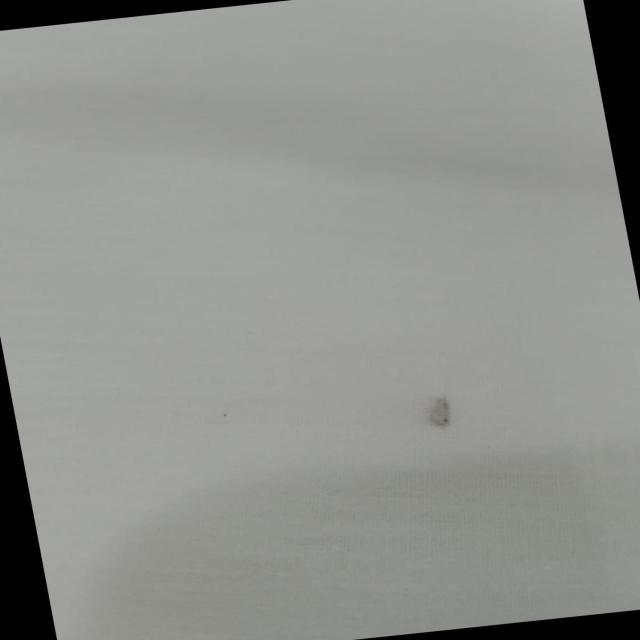stain: (404, 378, 478, 441)
